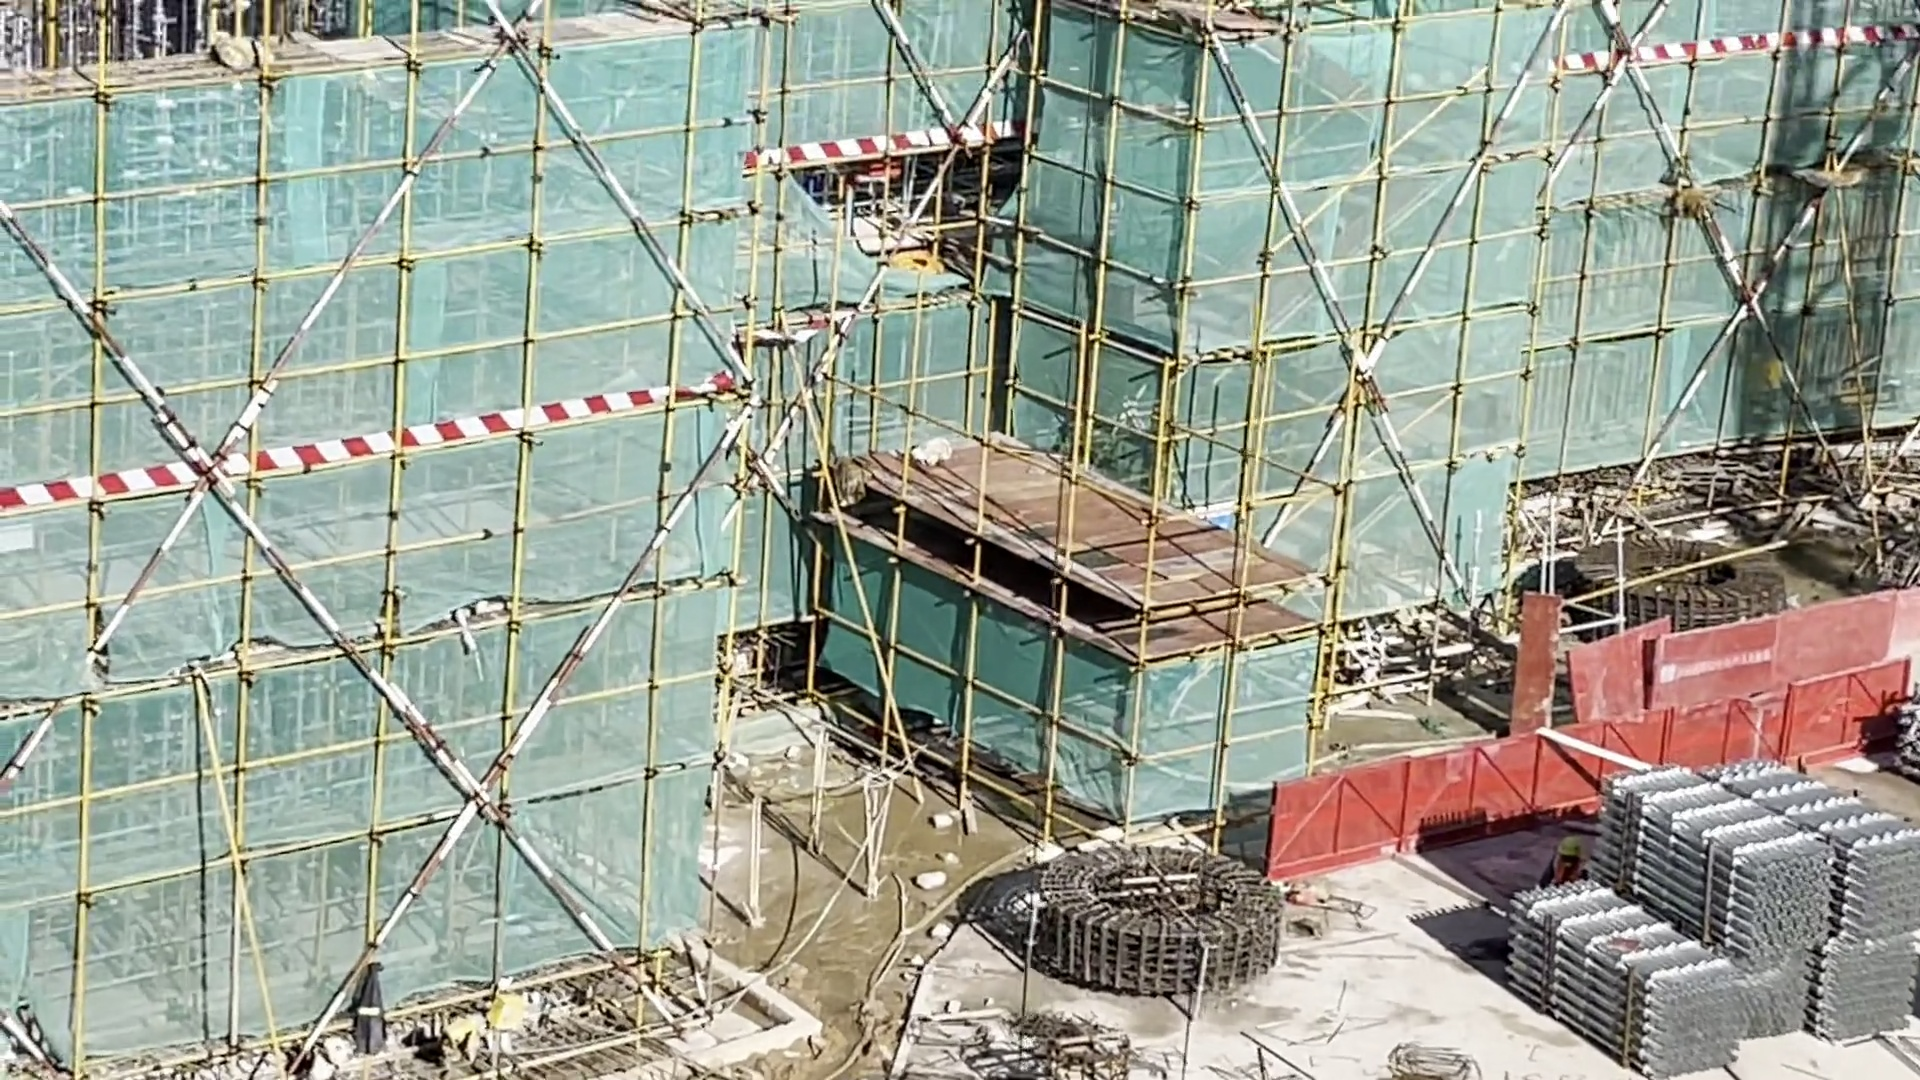fence: (1265, 662, 1920, 882)
helmet: (1553, 829, 1588, 865)
person: (1541, 828, 1587, 902)
scaffold: (1496, 767, 1920, 1080)
